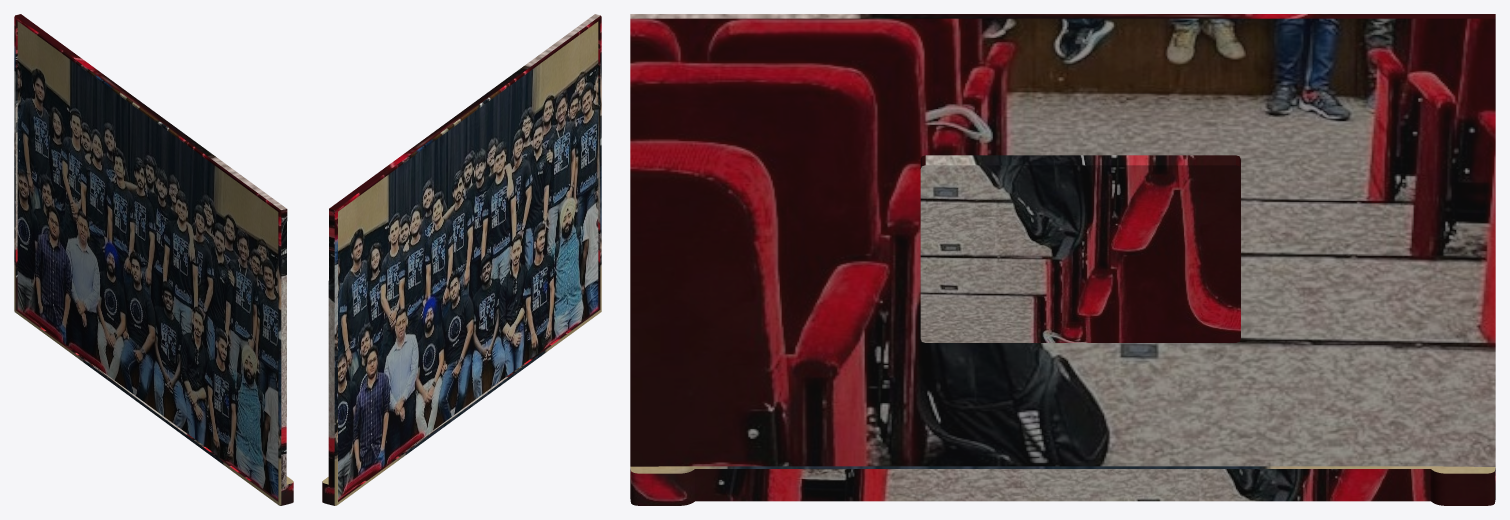
File: aws_TV_01_visual.DAE
The picture shows the model from 3 angles, left to right: view 1: azimuth 30°, elevation 25°; view 2: azimuth 150°, elevation 25°; view 3: azimuth 270°, elevation 25°; orthographic projection. The views are drawn at different scales.
Visible parts, largest first — view 1: aws_TV_01_visual; view 2: aws_TV_01_visual; view 3: aws_TV_01_visual.
Boxes of the visible parts, x1=… form: aws_TV_01_visual: x1=14, y1=14, x2=293, y2=505; aws_TV_01_visual: x1=322, y1=14, x2=601, y2=505; aws_TV_01_visual: x1=630, y1=14, x2=1495, y2=505.
Bounding box in the file's own units: 5.5 × 130 × 79.54.
1 material, 1 textured.
